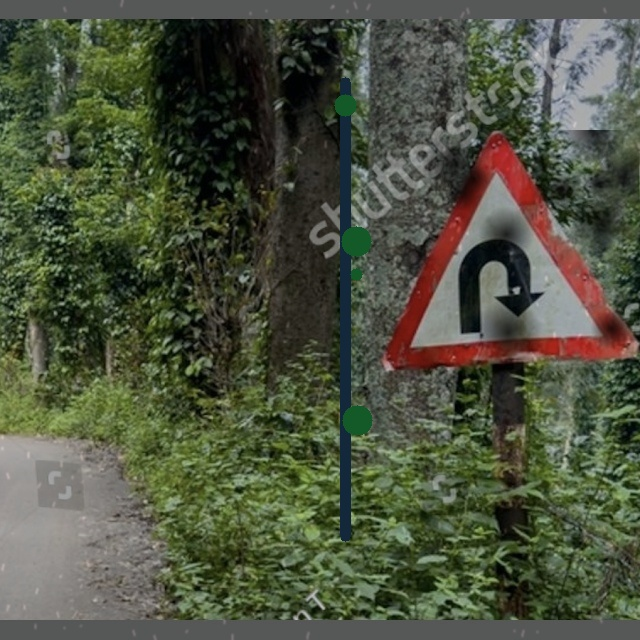Right_Hair_Pin_Bend: (395, 130, 639, 360)
